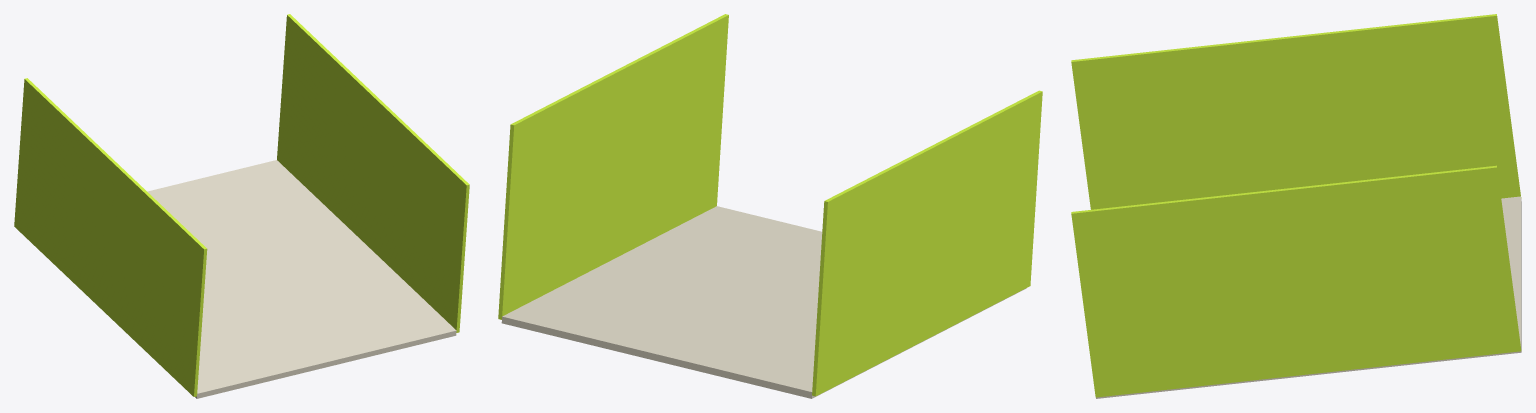
Rendered from visuals.glb.
3 views of the same model, side by side, from view 1: azimuth 30°, elevation 25°; view 2: azimuth 150°, elevation 25°; view 3: azimuth 270°, elevation 25° (orthographic). The views are drawn at different scales.
Visible parts, largest first — view 1: floor, rail-left, rail-right; view 2: rail-left, rail-right, floor; view 3: rail-right, rail-left, floor.
Part boxes in pixels (bbox=[...]): floor: bbox=[147, 160, 456, 398]; rail-left: bbox=[14, 78, 207, 396]; rail-right: bbox=[277, 14, 469, 332]; rail-left: bbox=[812, 90, 1042, 396]; rail-right: bbox=[498, 14, 728, 319]; floor: bbox=[501, 206, 1026, 398]; rail-right: bbox=[1071, 165, 1521, 397]; rail-left: bbox=[1071, 14, 1521, 209]; floor: bbox=[1096, 196, 1521, 398].
Bounding box in the file's own units: 0.512 × 0.3629 × 0.6349.
